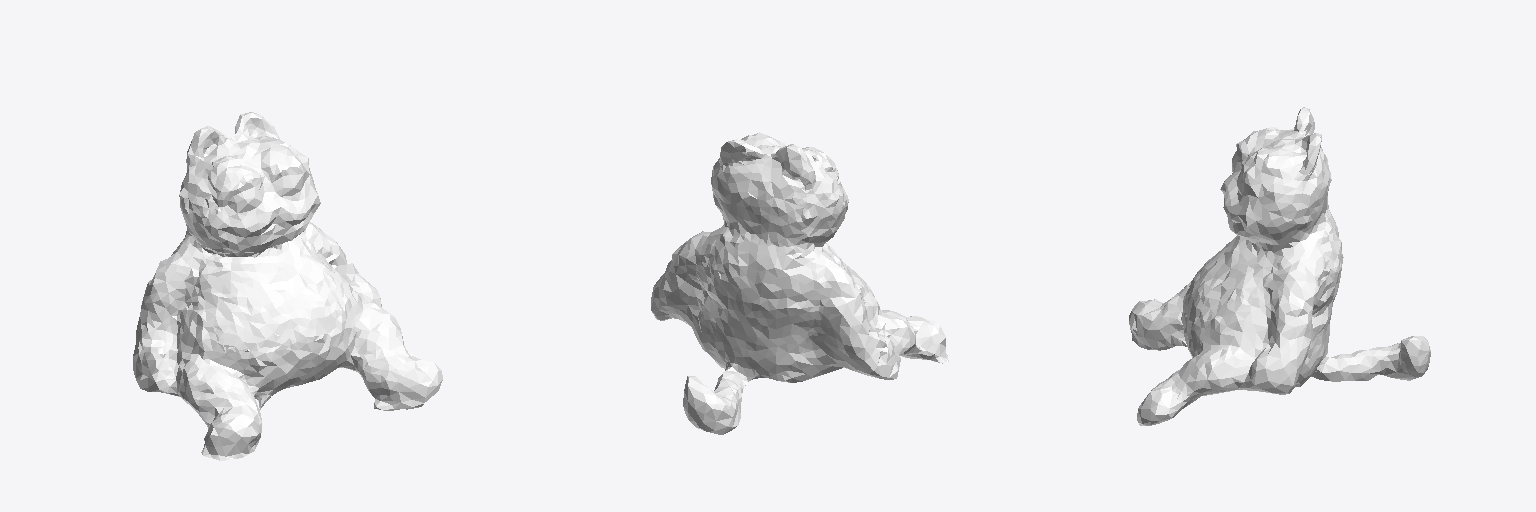
Rendered from LabCat1.obj.
3 renders of one model, left to right at view 1: azimuth 30°, elevation 25°; view 2: azimuth 150°, elevation 25°; view 3: azimuth 270°, elevation 25°, orthographic.
Size of the model in its own units: 0.776 by 0.7721 by 0.8242.